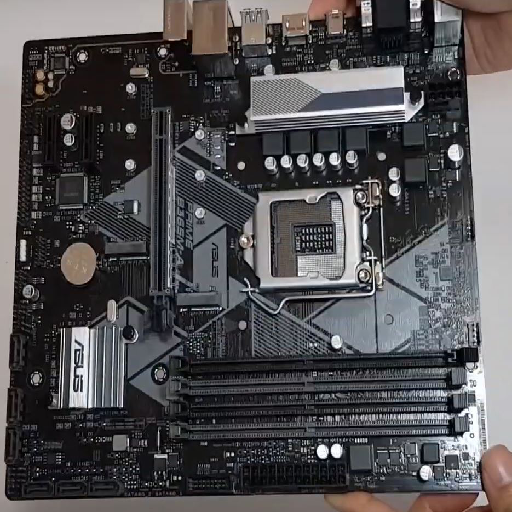CPU: (240, 180, 383, 291)
GPU: (144, 106, 176, 333)
MOTHERBOARD: (4, 7, 491, 499)
RAM: (167, 348, 474, 440)
SSD: (175, 290, 223, 312), (104, 240, 148, 262)
